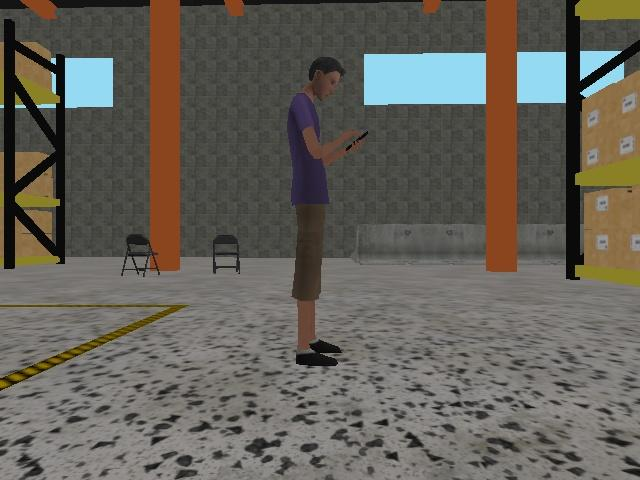chair: (120, 232, 163, 278), (211, 233, 242, 275)
person: (285, 54, 370, 368)
